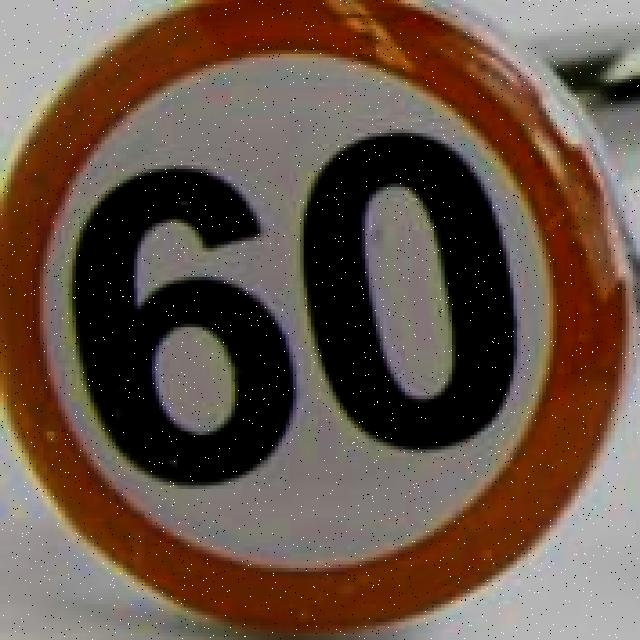Ograniczenie predkosci do 60: (0, 3, 618, 636)
